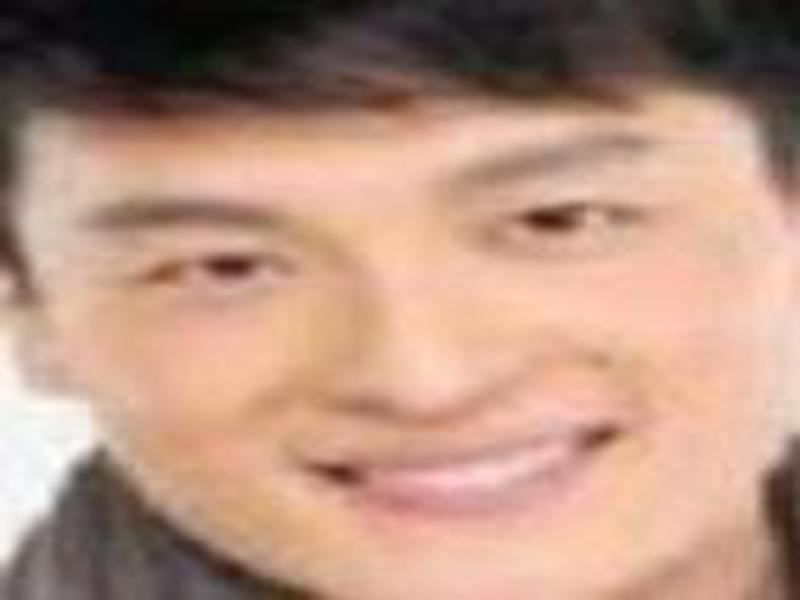without_mask: (23, 78, 780, 600)
